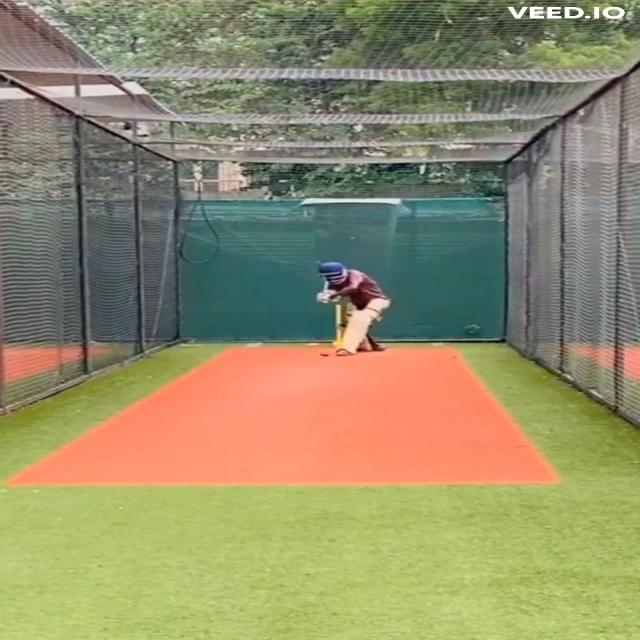ball: (318, 350, 331, 358)
